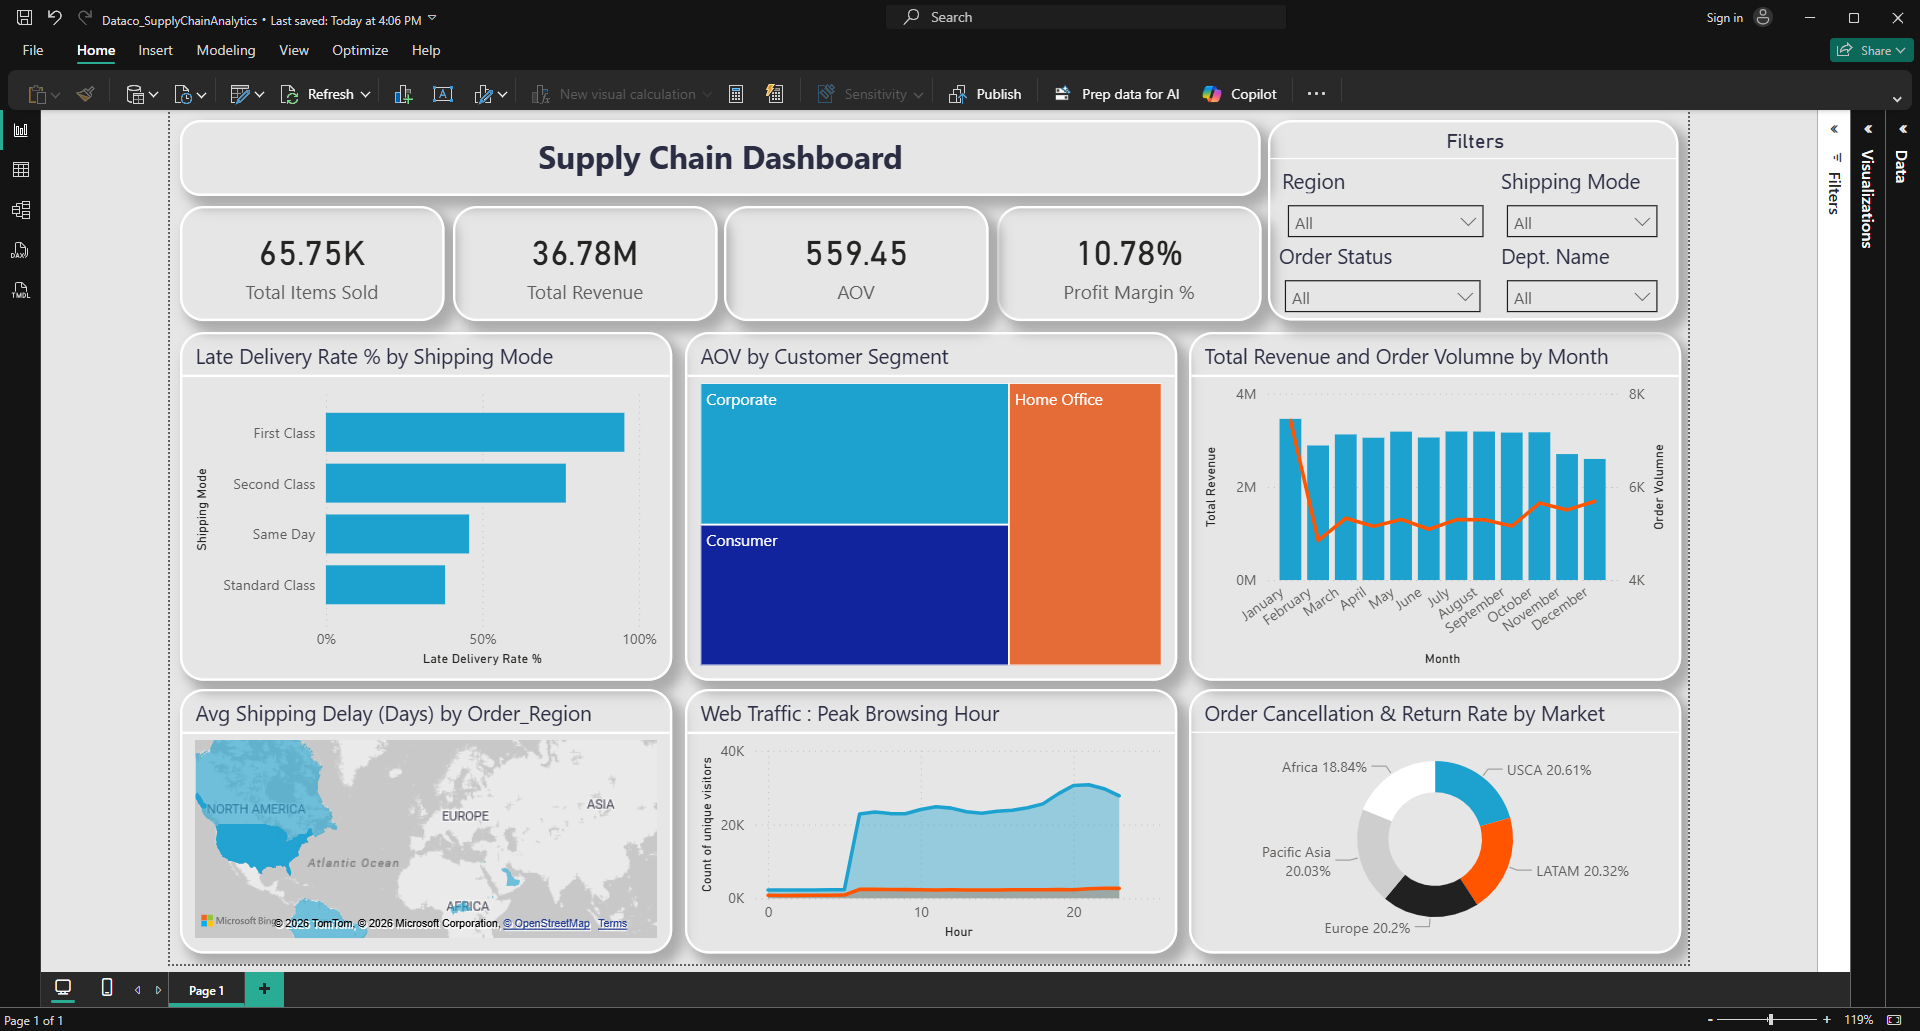

This screenshot's page, from the dashboard's own definition file:
{"tool":"powerbi","page":{"name":"Page 1","canvas":[1280,720],"ordinal":0},"visuals":[{"type":"textbox","title":"aaa","box":[8.4,8.4,911.4,64.1],"z":0},{"type":"card","fields":{"Values":["Count(DataCoSupplyChain.Order_Id)"]},"box":[8.6,81.1,222.5,96.6],"z":1000},{"type":"card","fields":{"Values":["Sum(DataCoSupplyChain.Sales)"]},"box":[238.9,81.1,222.5,96.6],"z":2000},{"type":"card","fields":{"Values":["DataCoSupplyChain.Profit Margin %"]},"box":[696.9,81.1,222.5,96.6],"z":3000},{"type":"card","fields":{"Values":["DataCoSupplyChain.AOV"]},"box":[467.5,81.1,222.5,96.6],"z":4000},{"type":"clusteredBarChart","fields":{"Y":["DataCoSupplyChain.Late Delivery Rate %"],"Category":["DataCoSupplyChain.Shipping_Mode"]},"box":[8.6,187.2,415,294.1],"z":5000},{"type":"filledMap","fields":{"Category":["DataCoSupplyChain.Order_Region"]},"box":[8.6,488.2,415,223.4],"z":6000},{"type":"treemap","fields":{"Values":["DataCoSupplyChain.AOV"],"Group":["DataCoSupplyChain.Customer_Segment"]},"box":[433.9,187.2,414.9,294.1],"z":7000},{"type":"areaChart","title":"Web Traffic : Peak Browsing Hour","fields":{"Category":["TokenizedAccessLogs.Hour"],"Y":["Count(TokenizedAccessLogs.IP)","CountNonNull(TokenizedAccessLogs.URL)"]},"box":[433.9,488.2,414.9,223.4],"z":8000},{"type":"lineClusteredColumnComboChart","fields":{"Y":["Sum(DataCoSupplyChain.Sales)"],"Category":["DataCoSupplyChain.Order_Date.Variation.Date Hierarchy.Month"],"Y2":["Count(DataCoSupplyChain.Order_Id)"]},"box":[859.1,187.2,414.9,294.1],"z":9000},{"type":"donutChart","title":"Order Cancellation & Return Rate by Market","fields":{"Y":["DataCoSupplyChain.Cancellation & Return Rate %"],"Category":["DataCoSupplyChain.Market"]},"box":[859.1,488.2,415,223],"z":10000},{"type":"textbox","title":"Filters","box":[925.7,8.4,345.7,169.5],"z":11000},{"type":"slicer","title":"Region","fields":{"Values":["DataCoSupplyChain.Order_Region"]},"box":[932.5,47.2,184.6,63.2],"z":12000},{"type":"slicer","title":"Order Status","fields":{"Values":["DataCoSupplyChain.Order_Status"]},"box":[929.9,110.4,184.6,63.2],"z":12001},{"type":"slicer","title":"Shipping Mode","fields":{"Values":["DataCoSupplyChain.Shipping_Mode"]},"box":[1117.1,47.2,146.7,63.2],"z":12002},{"type":"slicer","title":"Dept. Name","fields":{"Values":["DataCoSupplyChain.Department_Name"]},"box":[1117.1,110.4,146.7,63.2],"z":12003}]}

Visuals, with their boxes in screenshot pixels (x1, y1, x2, y2):
"aaa" textbox: region(121, 11, 1362, 99)
card - Count(DataCoSupplyChain.Order_Id): region(122, 110, 424, 242)
card - Sum(DataCoSupplyChain.Sales): region(435, 110, 738, 242)
card - DataCoSupplyChain.Profit Margin %: region(1058, 110, 1361, 242)
card - DataCoSupplyChain.AOV: region(746, 110, 1049, 242)
clusteredBarChart - DataCoSupplyChain.Late Delivery Rate % x DataCoSupplyChain.Shipping_Mode: region(122, 255, 686, 655)
filledMap - DataCoSupplyChain.Order_Region: region(122, 664, 686, 968)
treemap - DataCoSupplyChain.AOV x DataCoSupplyChain.Customer_Segment: region(700, 255, 1265, 655)
"Web Traffic : Peak Browsing Hour" areaChart: region(700, 664, 1265, 968)
lineClusteredColumnComboChart - Sum(DataCoSupplyChain.Sales) x DataCoSupplyChain.Order_Date.Variation.Date Hierarchy.Month: region(1279, 255, 1844, 655)
"Order Cancellation & Return Rate by Market" donutChart: region(1279, 664, 1844, 968)
"Filters" textbox: region(1370, 11, 1840, 242)
"Region" slicer: region(1379, 64, 1630, 150)
"Order Status" slicer: region(1375, 150, 1627, 236)
"Shipping Mode" slicer: region(1630, 64, 1830, 150)
"Dept. Name" slicer: region(1630, 150, 1830, 236)
